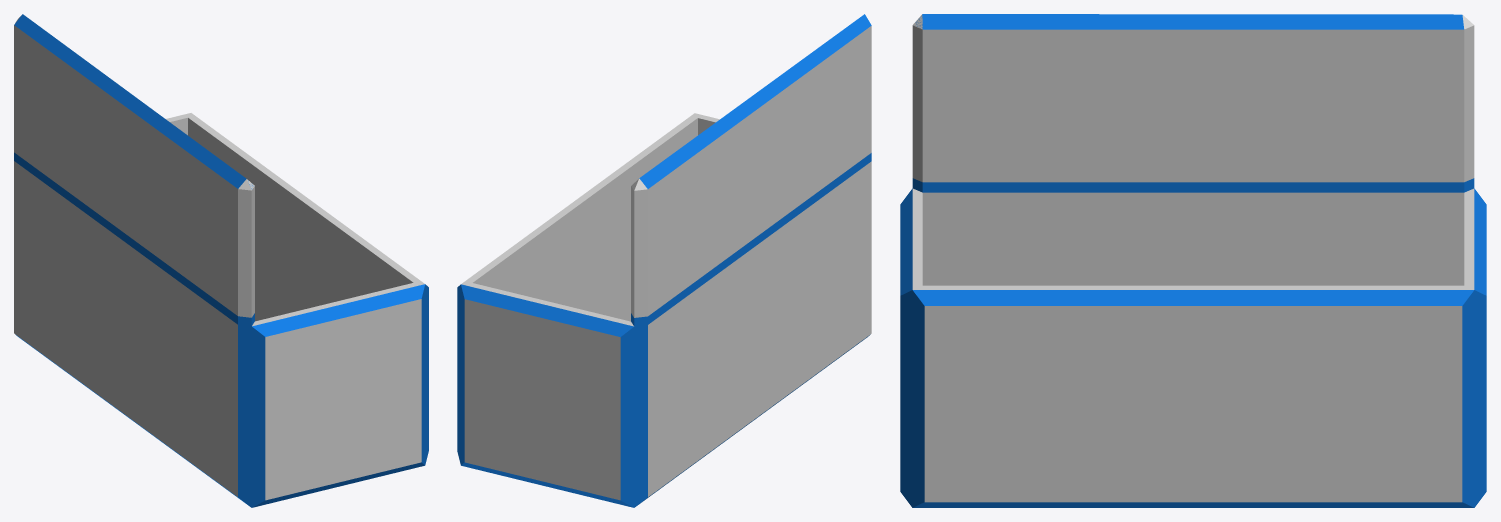
Rendered from Freezer.fbx.
3 renders of one model, left to right at view 1: azimuth 30°, elevation 25°; view 2: azimuth 150°, elevation 25°; view 3: azimuth 270°, elevation 25°, orthographic. The views are drawn at different scales.
Parts seen in each view (by area): view 1: Cube; view 2: Cube; view 3: Cube.
Part boxes in pixels (<box>): Cube: <box>14,14,428,507</box>; Cube: <box>457,14,871,507</box>; Cube: <box>900,14,1486,507</box>.
Bounding box in the file's own units: 220 × 359 × 487.
